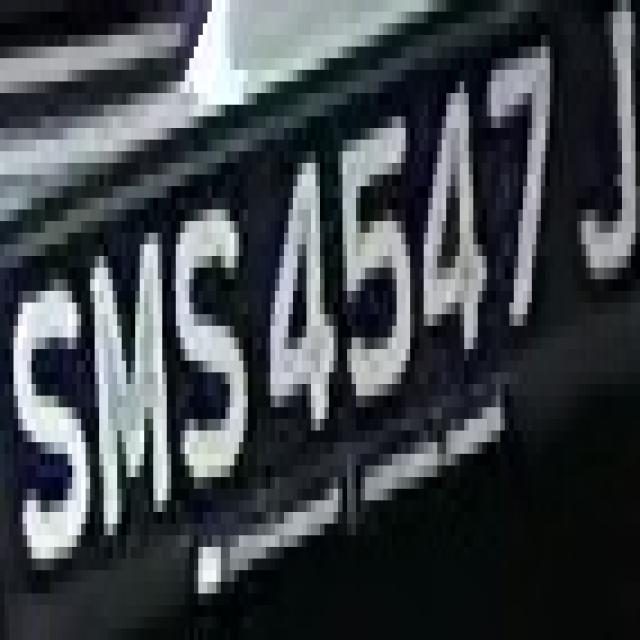4: (252, 128, 334, 454), (419, 35, 491, 361)
5: (325, 104, 419, 396)
7: (460, 12, 559, 349)
J: (568, 23, 640, 291)
M: (81, 209, 180, 547)
S: (9, 244, 95, 594), (158, 186, 243, 524)
